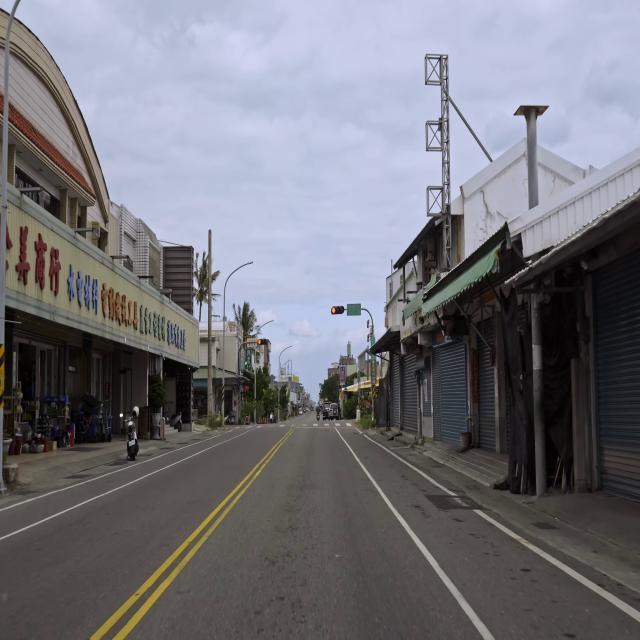red light: (331, 305, 344, 315), (257, 339, 268, 345)
